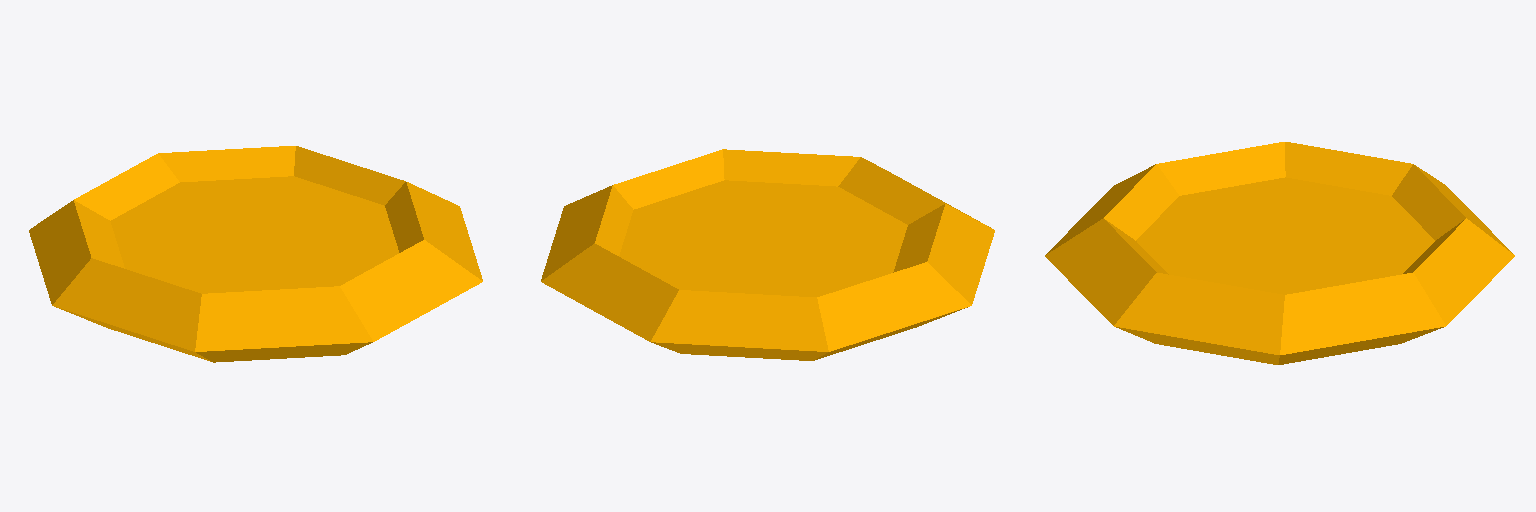
File: Coin.obj
3 views of the same model, side by side, from view 1: azimuth 30°, elevation 25°; view 2: azimuth 150°, elevation 25°; view 3: azimuth 270°, elevation 25° (orthographic).
Parts seen in each view (by area): view 1: Coin; view 2: Coin; view 3: Coin.
Part boxes in pixels (x1,y1,x2,y2): Coin: (29,146,482,362); Coin: (541,149,994,360); Coin: (1045,142,1514,364).
Size of the model in its own units: 6 by 1 by 6.